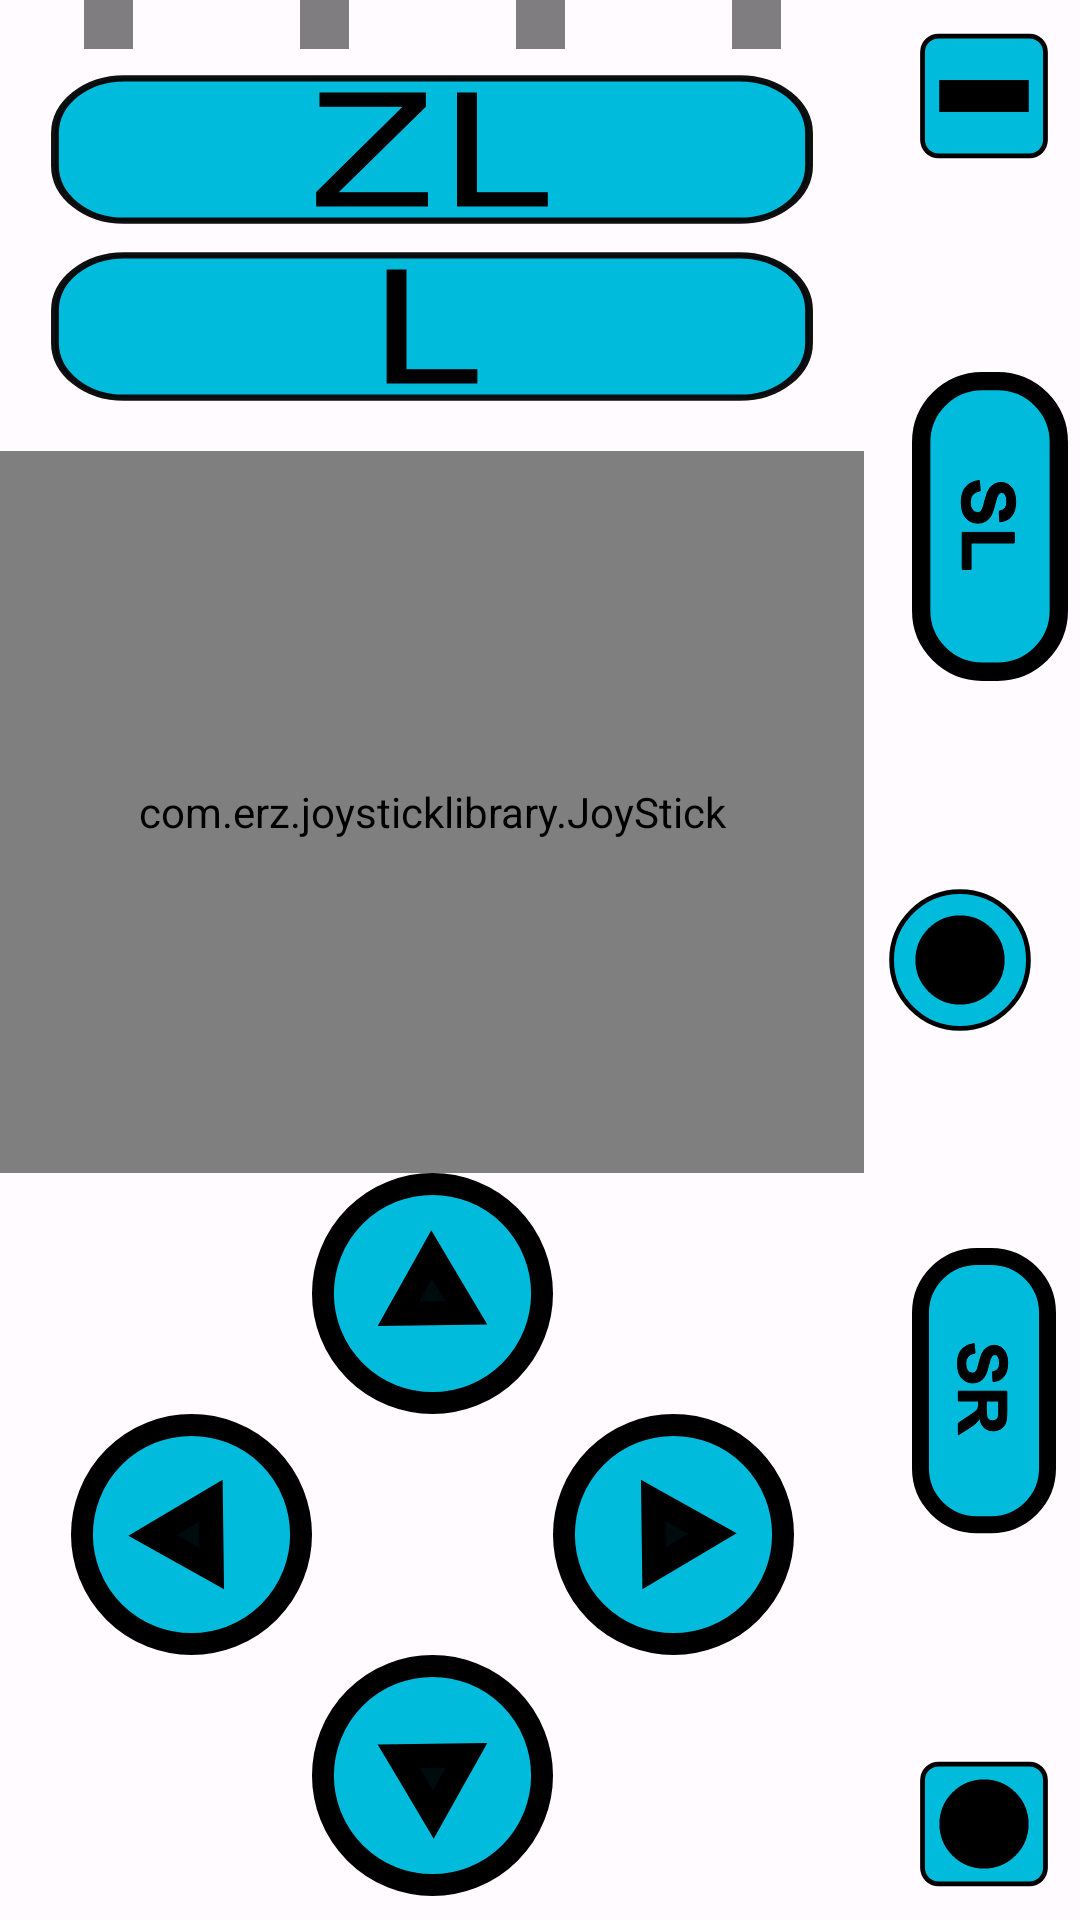

Icons on this 1080 x 1920 Android screen, each with the point to tap as [x,y]:
Capture: [984,1824]
Down: [432,1775]
Left: [191,1534]
Minus: [984,96]
Right: [673,1534]
Up: [432,1293]
